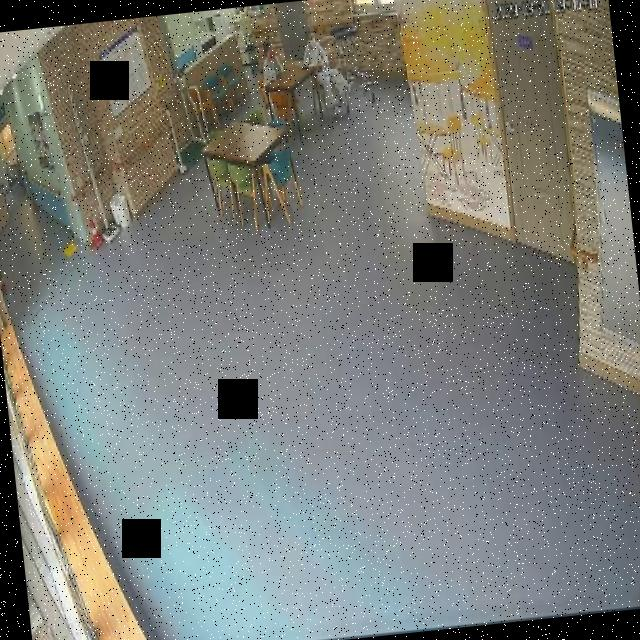patient: (298, 26, 356, 123), (250, 31, 285, 88)
sit: (298, 27, 355, 122)
walker: (324, 18, 378, 113)
